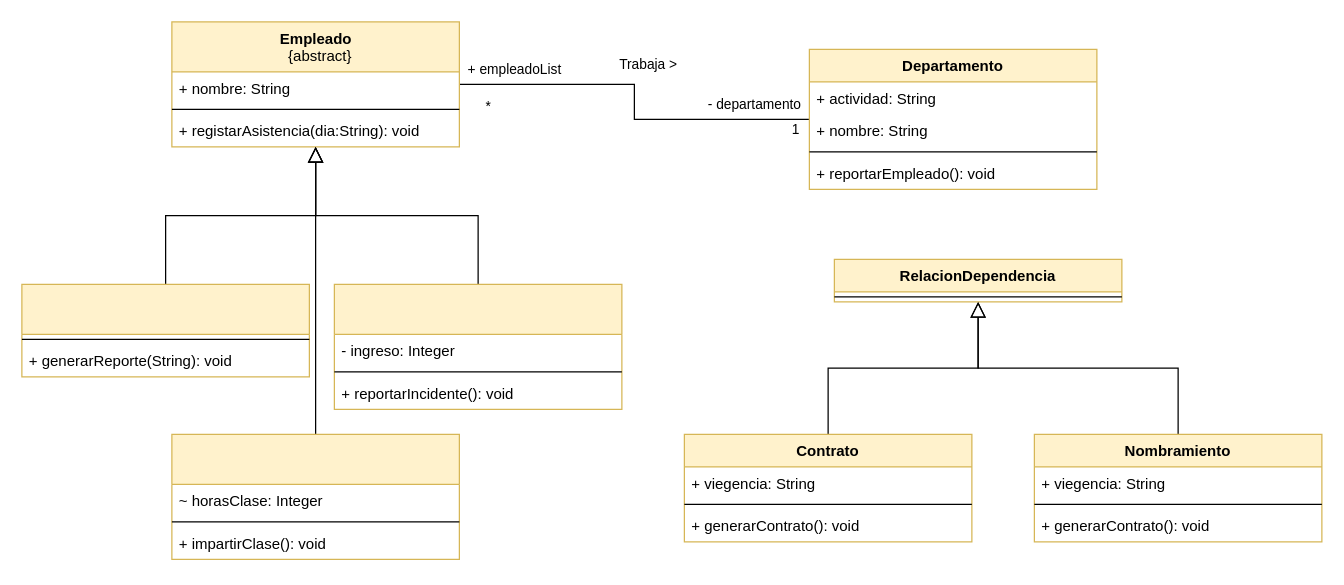
The diagram is 1344 pixels wide and 585 high, and some of its shapes have lost their labels. Here are the shapes that lost their labels. From the top down, the box of each, then its label:
(21, 283, 309, 377): Administrativo {leaf }
(333, 283, 622, 409): Trabajador {leaf}
(171, 433, 459, 559): Docente {leaf}
